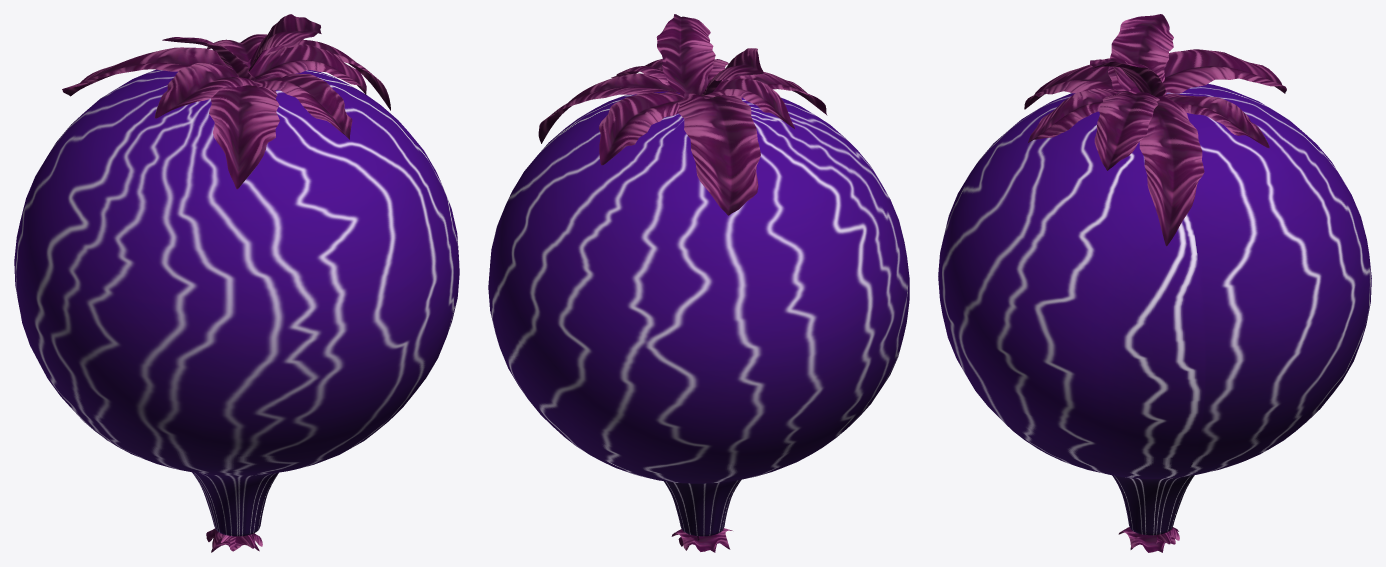
The model's file is jogan_fruit.glb.
3 views of the same model, side by side, from view 1: azimuth 30°, elevation 25°; view 2: azimuth 150°, elevation 25°; view 3: azimuth 270°, elevation 25° (orthographic). The views are drawn at different scales.
Parts seen in each view (by area): view 1: Object_2, Object_3; view 2: Object_2, Object_3; view 3: Object_2, Object_3.
Boxes of the visible parts, left/top/right/bottom form: Object_2: left=14, top=69, right=459, bottom=536; Object_3: left=62, top=14, right=390, bottom=552; Object_2: left=488, top=91, right=909, bottom=536; Object_3: left=538, top=14, right=827, bottom=552; Object_2: left=938, top=83, right=1371, bottom=535; Object_3: left=1024, top=14, right=1286, bottom=552.
Bounding box in the file's own units: 0.0751 × 0.0996 × 0.0771.
Materials: 2 (2 with a texture image).
